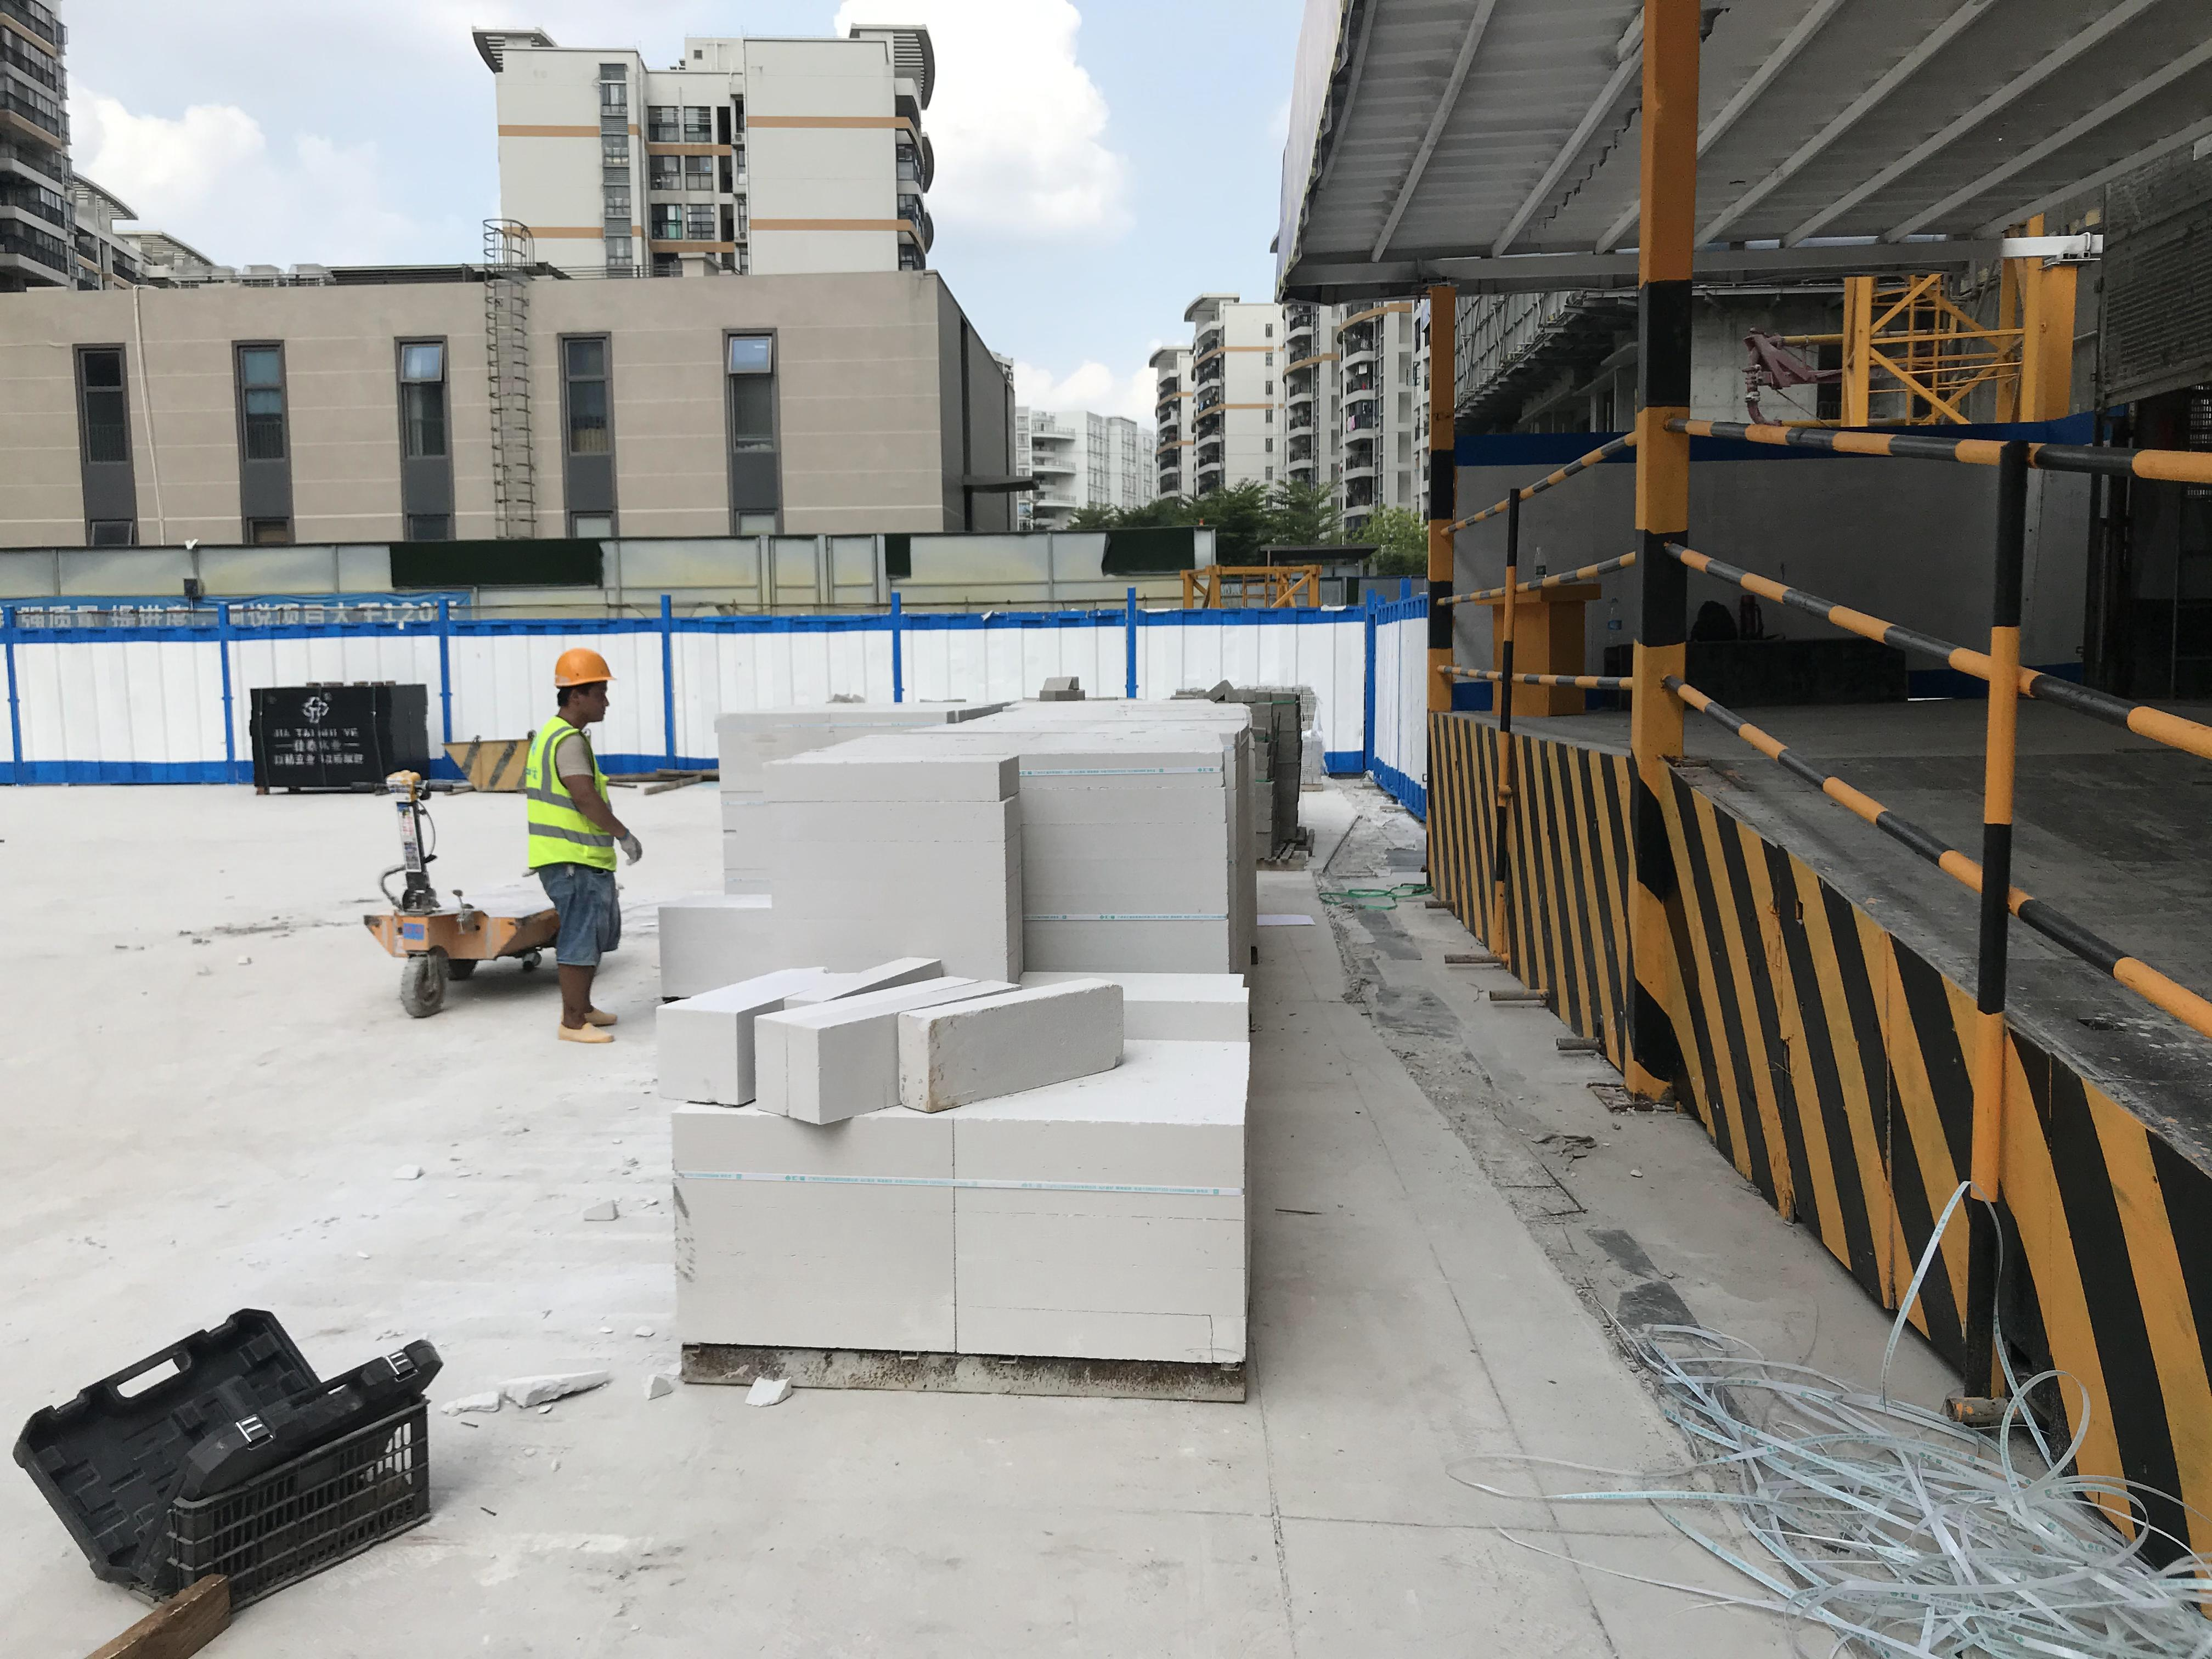brick: (656, 689, 1304, 1411)
helmet: (554, 647, 617, 689)
person: (524, 645, 646, 1048)
vest: (525, 718, 619, 870)
